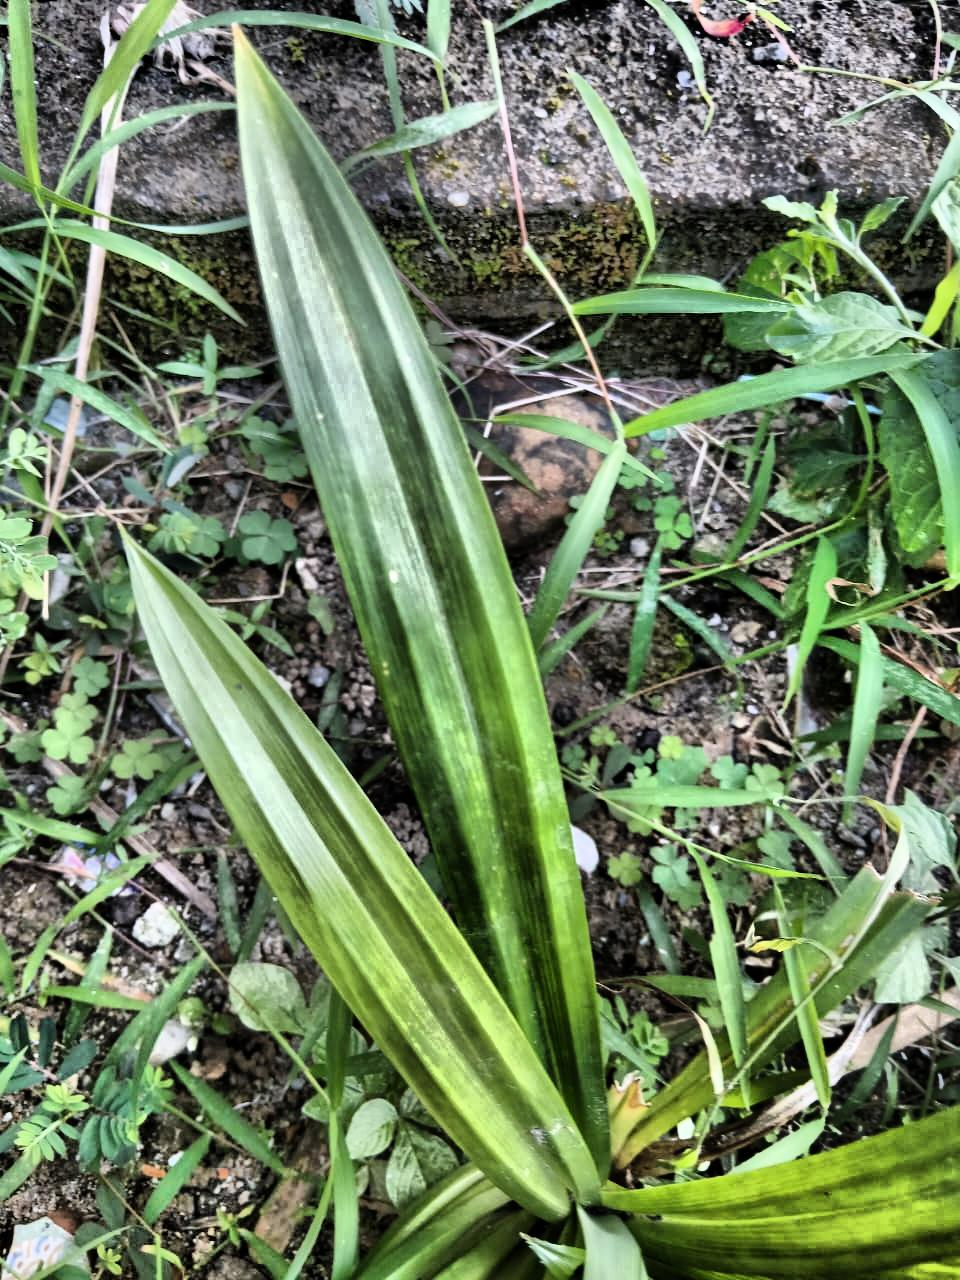daun pandan: (123, 26, 956, 1279)
